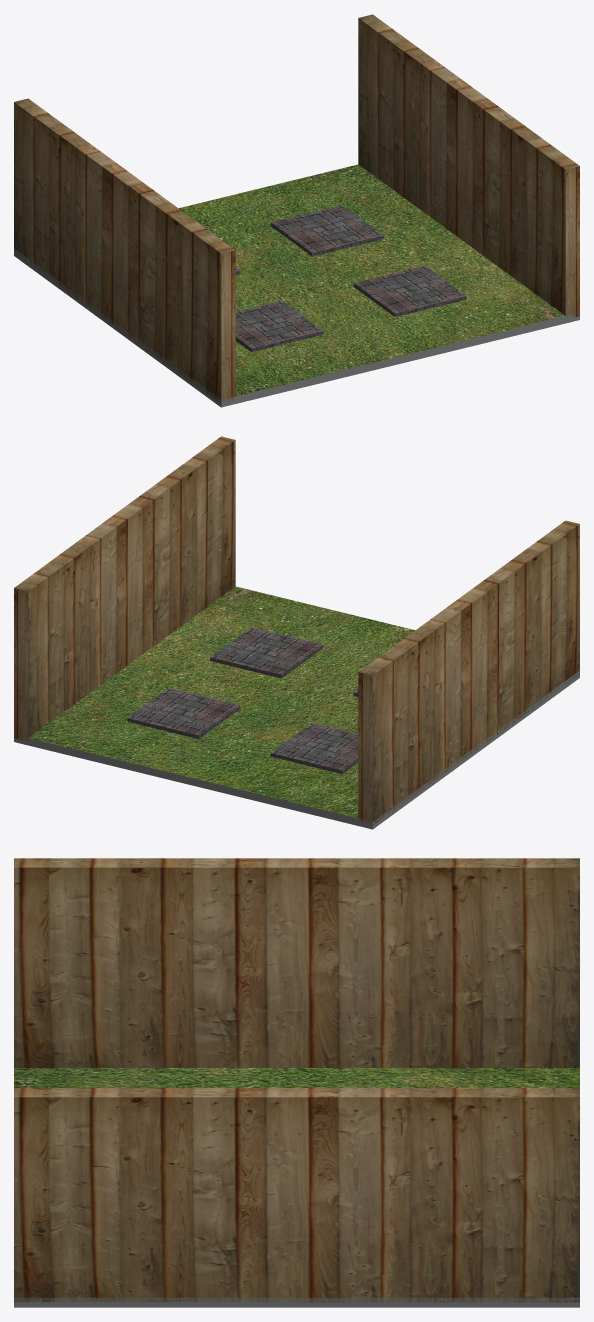
3 views of the same model, one above another, from view 1: azimuth 30°, elevation 25°; view 2: azimuth 150°, elevation 25°; view 3: azimuth 270°, elevation 25° (orthographic). The views are drawn at different scales.
Parts seen in each view (by area): view 1: Gerade_Holz; view 2: Gerade_Holz; view 3: Gerade_Holz.
Part boxes in pixels (<box>): Gerade_Holz: <box>14,14,579,407</box>; Gerade_Holz: <box>14,436,579,829</box>; Gerade_Holz: <box>14,858,579,1307</box>.
Bounding box in the file's own units: 5 × 2.05 × 5.
Materials: 8 (7 with a texture image).
